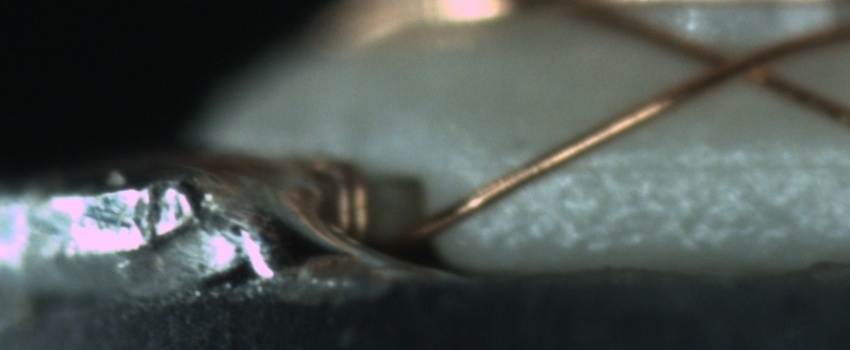CL: (689, 36, 779, 91)
DL: (545, 132, 849, 192)
TE: (292, 148, 376, 239)
